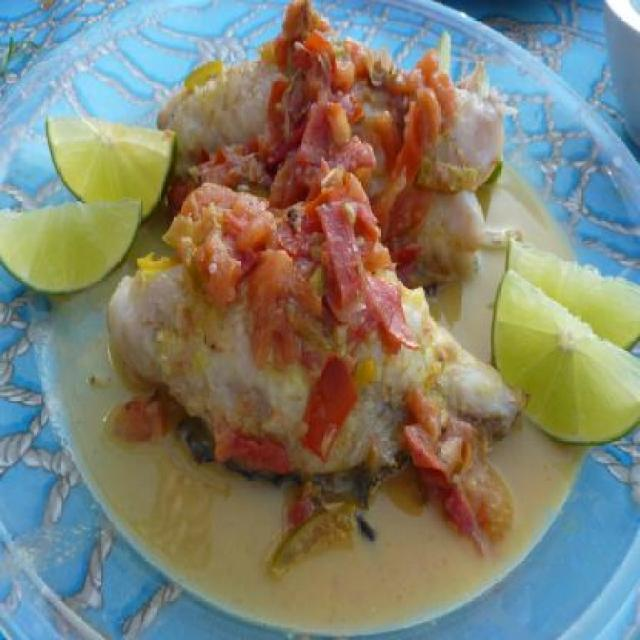Lemon: (491, 270, 640, 442), (44, 117, 180, 225), (506, 243, 640, 349), (1, 205, 142, 298)
